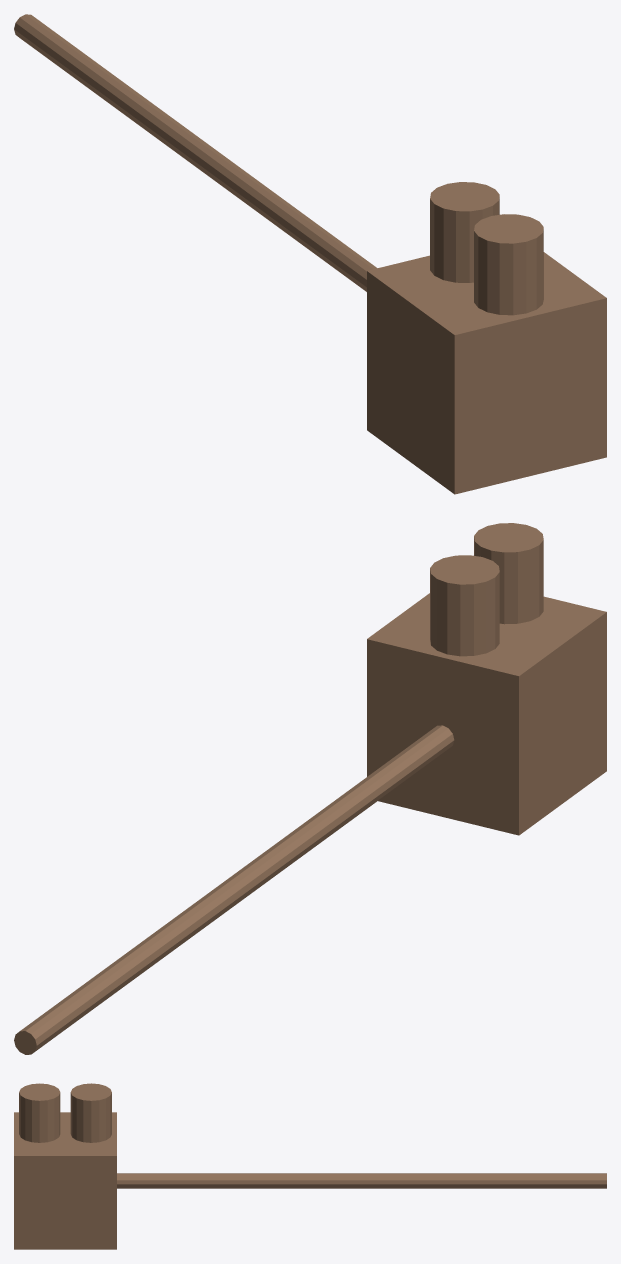
File: engine_visual.glb
3 renders of one model, top to bottom at view 1: azimuth 30°, elevation 25°; view 2: azimuth 150°, elevation 25°; view 3: azimuth 270°, elevation 25°, orthographic. The views are drawn at different scales.
Visible parts, largest first — view 1: engine; view 2: engine; view 3: engine.
Part boxes in pixels (left/top/right/bottom): engine: left=14, top=14, right=606, bottom=494; engine: left=14, top=523, right=606, bottom=1054; engine: left=14, top=1083, right=606, bottom=1249.
Bounding box in the file's own units: 2 × 2.9 × 11.5.
